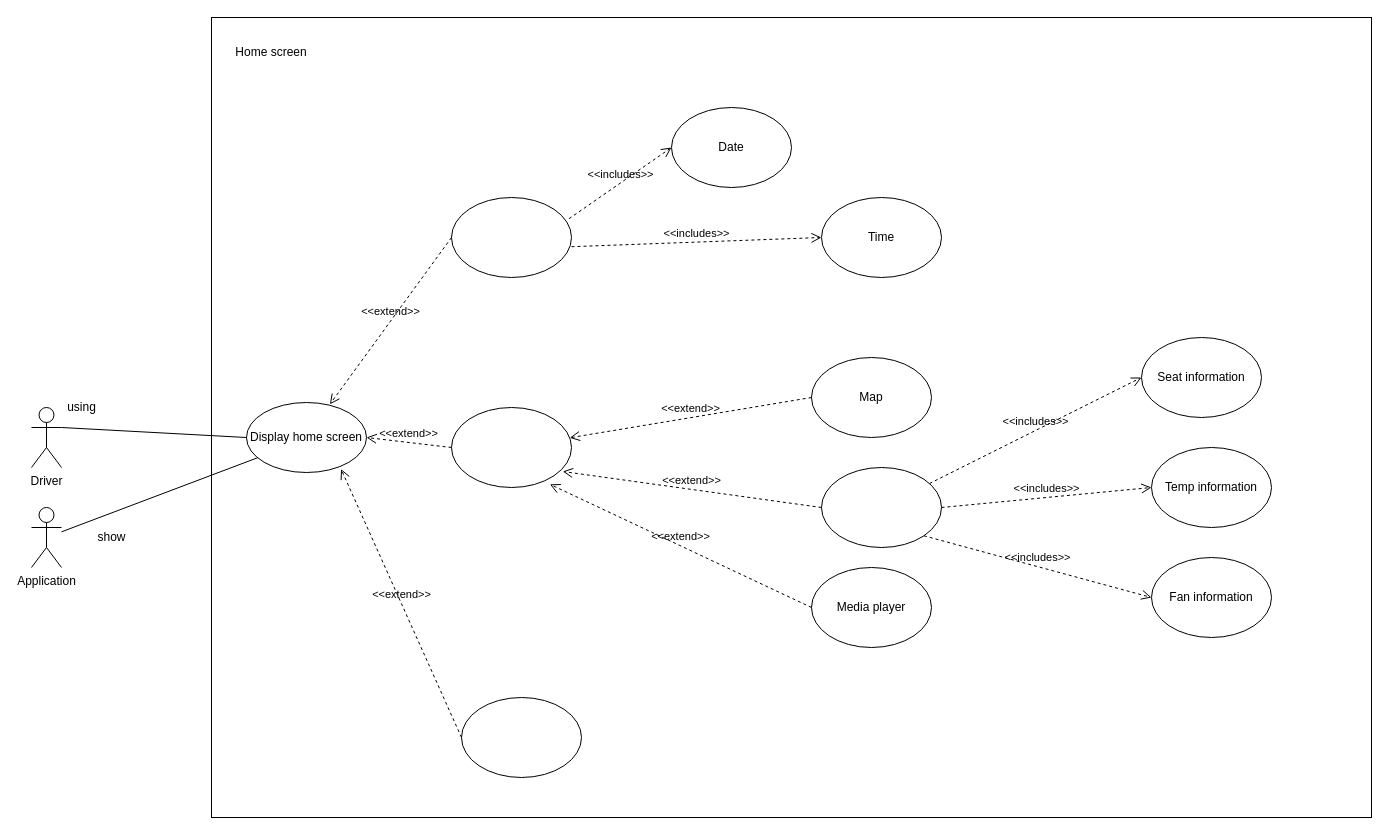
Image size: 1389x835. Some labels were removed from this diagram. The shapes that lost their labels are listed below. From the top down, each one's box as (x1, y1, x2, y2) in pixels, then its label:
(450, 196, 572, 278): Status bar
(450, 406, 572, 488): Widget
(820, 466, 942, 548): Climate Simulator
(460, 696, 582, 778): Application menu
